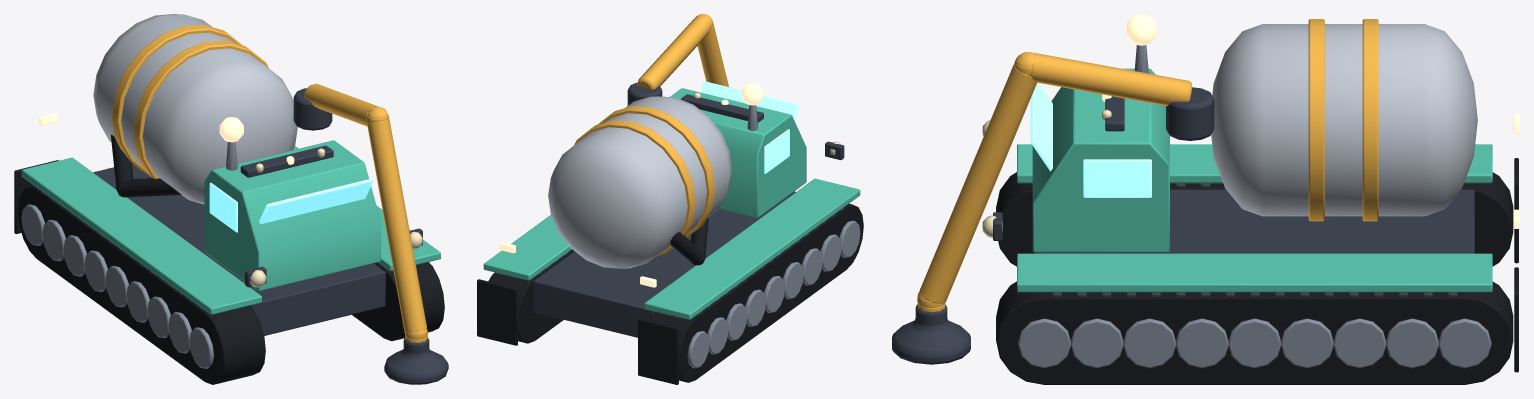
Rendered from schlammraupe.fbx.
3 renders of one model, left to right at view 1: azimuth 30°, elevation 25°; view 2: azimuth 150°, elevation 25°; view 3: azimuth 270°, elevation 25°, orthographic. The views are drawn at different scales.
Visible parts, largest first — view 1: schlammraupe_Koerper, schlammraupe_Werkzeug; view 2: schlammraupe_Koerper, schlammraupe_Werkzeug; view 3: schlammraupe_Koerper, schlammraupe_Werkzeug.
Boxes of the visible parts, x1,y1,x2,y2 form: schlammraupe_Koerper: (14, 14, 444, 384); schlammraupe_Werkzeug: (293, 83, 448, 384); schlammraupe_Koerper: (477, 81, 863, 384); schlammraupe_Werkzeug: (627, 14, 728, 105); schlammraupe_Koerper: (982, 14, 1519, 384); schlammraupe_Werkzeug: (892, 52, 1214, 364).
Bounding box in the file's own units: 2.07 × 2.05 × 3.88.
